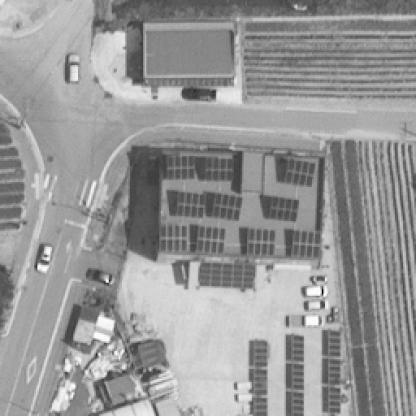solar-pv-panel: (198, 263, 256, 288), (288, 335, 304, 416), (252, 339, 268, 415), (326, 330, 340, 414), (283, 158, 317, 186), (291, 229, 322, 257), (211, 193, 243, 220), (204, 156, 235, 182), (176, 192, 206, 218), (246, 229, 275, 255), (197, 227, 225, 253), (161, 225, 189, 251), (165, 154, 194, 179), (270, 197, 299, 221)
